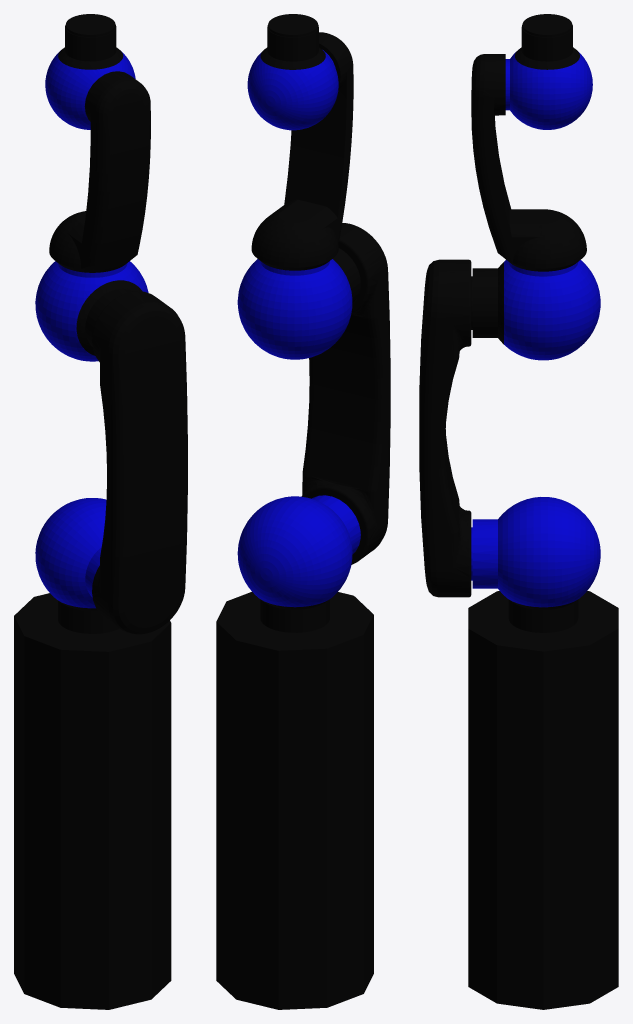
File: powerball.dae
3 renders of one model, left to right at view 1: azimuth 30°, elevation 25°; view 2: azimuth 150°, elevation 25°; view 3: azimuth 270°, elevation 25°, orthographic.
Parts seen in each view (by area): view 1: base_link, arm_2_link, arm_4_link, arm_1_link, arm_3_link, arm_5_link, arm_6_link, arm_0_link; view 2: base_link, arm_2_link, arm_4_link, arm_1_link, arm_3_link, arm_5_link, arm_6_link, arm_0_link; view 3: base_link, arm_2_link, arm_1_link, arm_4_link, arm_3_link, arm_5_link, arm_6_link, arm_0_link.
Part boxes in pixels (<box>): base_link: <box>14,593,171,1009</box>; arm_2_link: <box>76,280,187,634</box>; arm_4_link: <box>49,71,150,272</box>; arm_1_link: <box>35,498,106,608</box>; arm_3_link: <box>35,261,148,361</box>; arm_5_link: <box>45,50,135,129</box>; arm_6_link: <box>58,14,123,69</box>; arm_0_link: <box>58,600,119,633</box>; base_link: <box>216,592,373,1009</box>; arm_2_link: <box>301,223,390,564</box>; arm_4_link: <box>251,32,353,270</box>; arm_1_link: <box>237,495,360,607</box>; arm_3_link: <box>237,259,352,359</box>; arm_5_link: <box>247,50,338,130</box>; arm_6_link: <box>260,14,325,69</box>; arm_0_link: <box>260,599,329,632</box>; base_link: <box>468,591,618,1009</box>; arm_2_link: <box>419,259,503,597</box>; arm_1_link: <box>471,497,600,607</box>; arm_4_link: <box>471,54,586,271</box>; arm_3_link: <box>504,260,600,360</box>; arm_5_link: <box>505,51,592,129</box>; arm_6_link: <box>515,14,579,69</box>; arm_0_link: <box>505,596,578,632</box>.
Bounding box in the file's own units: 0.2 × 0.2521 × 1.33.
